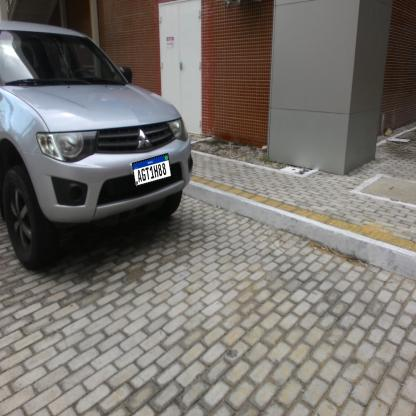PlacaM: (132, 153, 172, 187)
